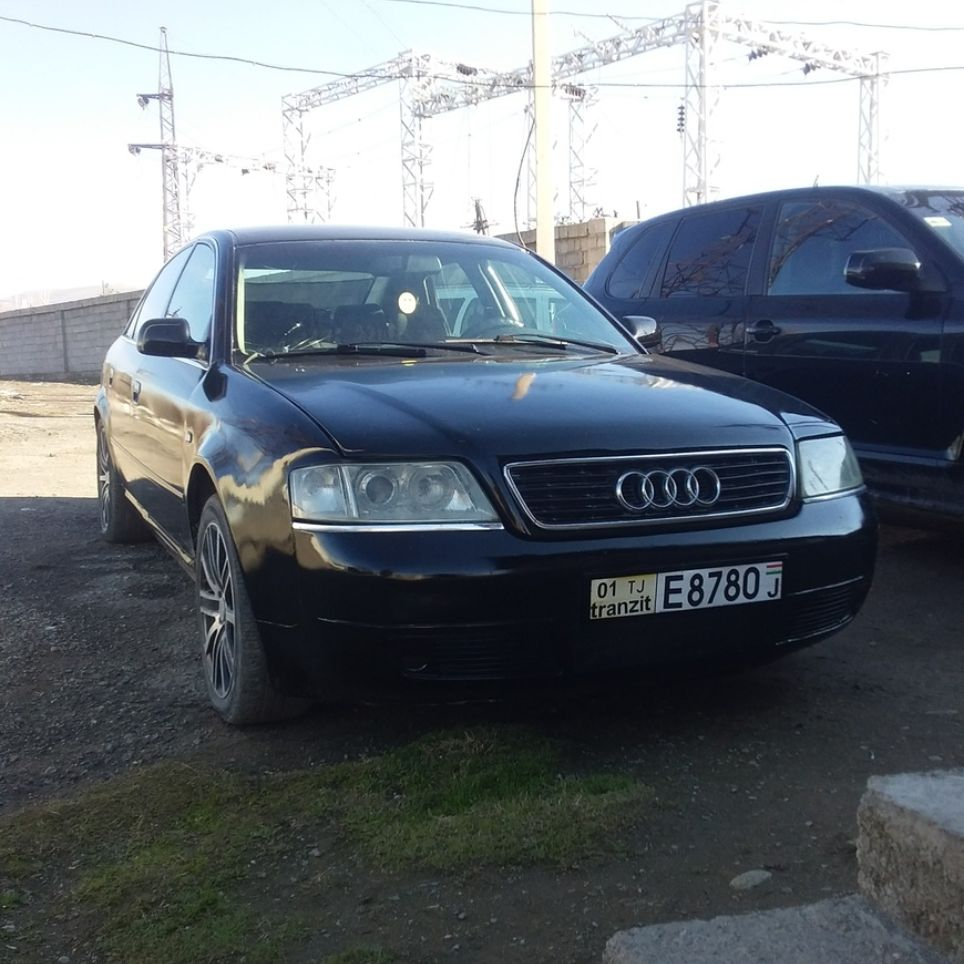license plate: (581, 557, 790, 626)
truck: (77, 223, 886, 729)
